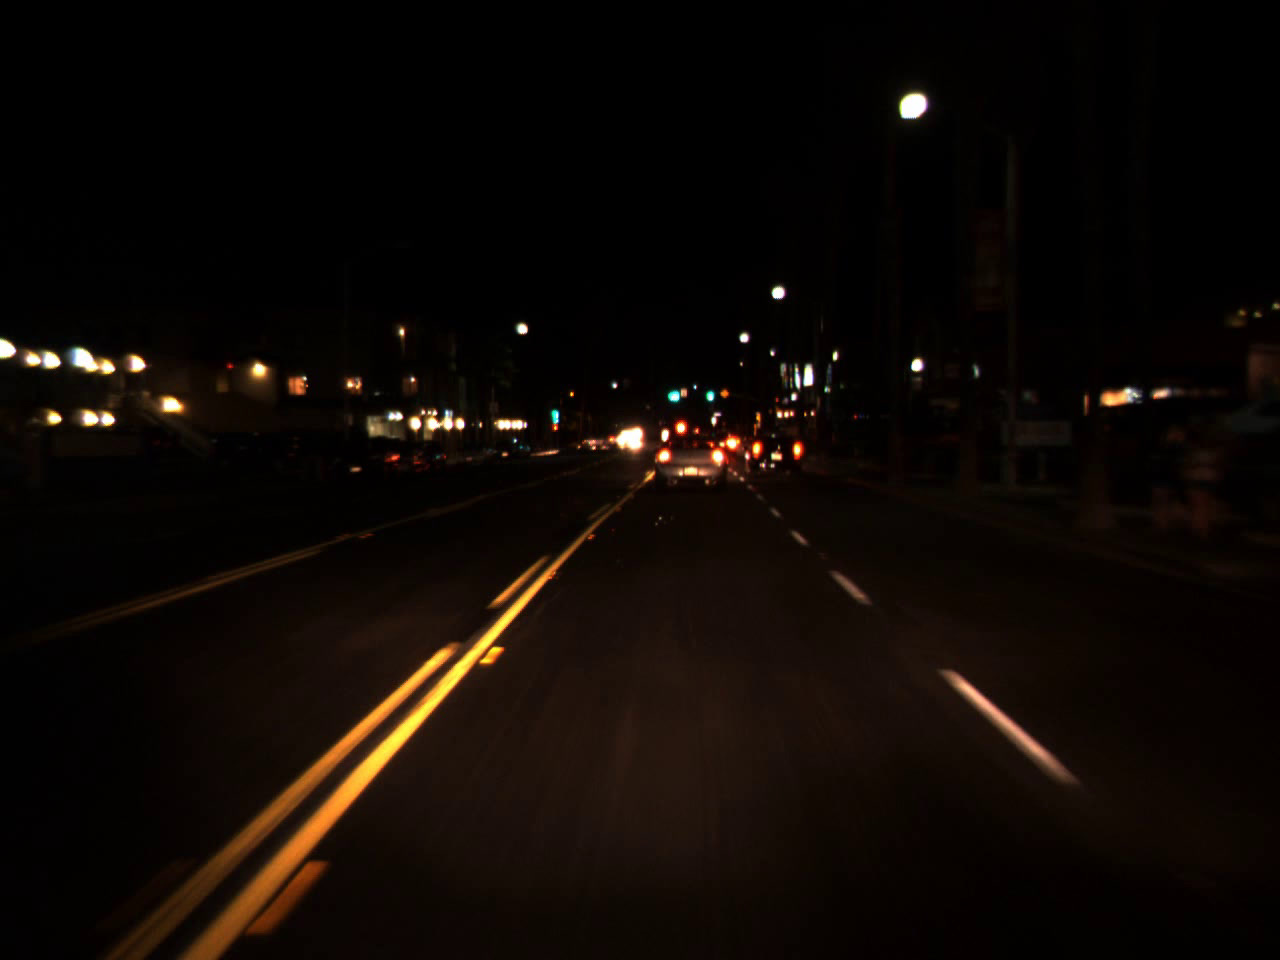go: (663, 378, 681, 405), (549, 392, 559, 428), (705, 383, 715, 401)
